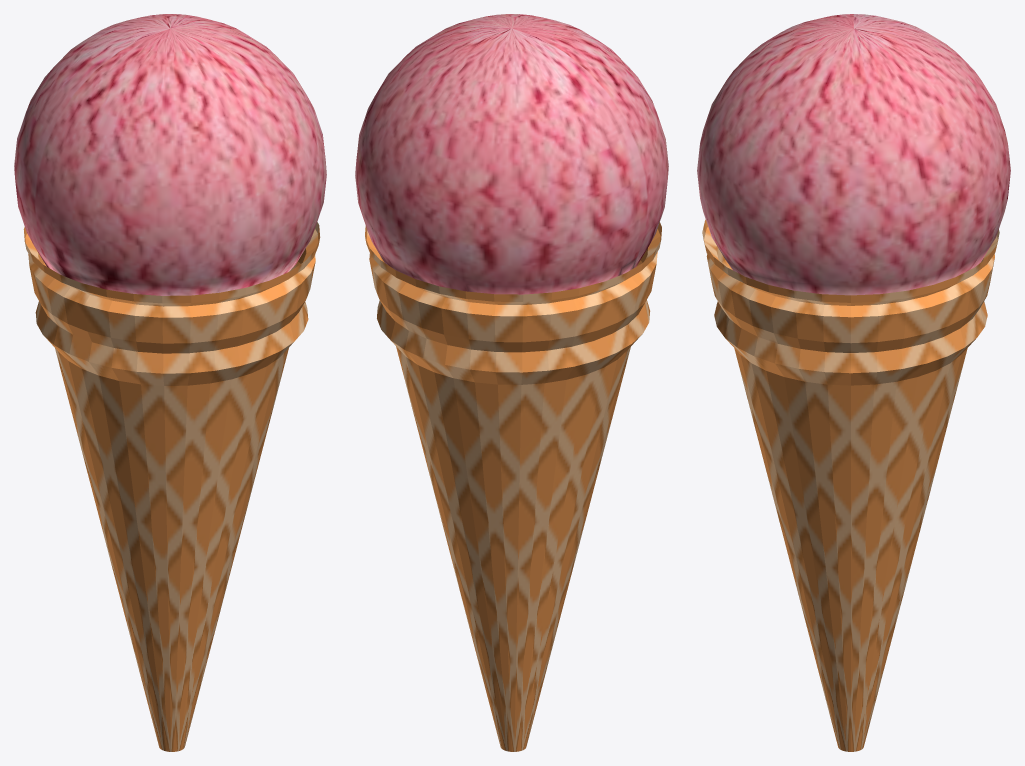
Rendered from Helado.glb.
3 renders of one model, left to right at view 1: azimuth 30°, elevation 25°; view 2: azimuth 150°, elevation 25°; view 3: azimuth 270°, elevation 25°, orthographic.
Visible parts, largest first — view 1: Esfera, Cilindro; view 2: Esfera, Cilindro; view 3: Esfera, Cilindro.
Part boxes in pixels (x1=…): Esfera: x1=14, y1=14, x2=326, y2=295; Cilindro: x1=23, y1=222, x2=320, y2=751; Esfera: x1=355, y1=14, x2=668, y2=294; Cilindro: x1=365, y1=222, x2=661, y2=751; Esfera: x1=697, y1=14, x2=1010, y2=295; Cilindro: x1=702, y1=219, x2=999, y2=751.
Bounding box in the file's own units: 4.61 × 11.63 × 4.61.
2 materials, 2 textured.
